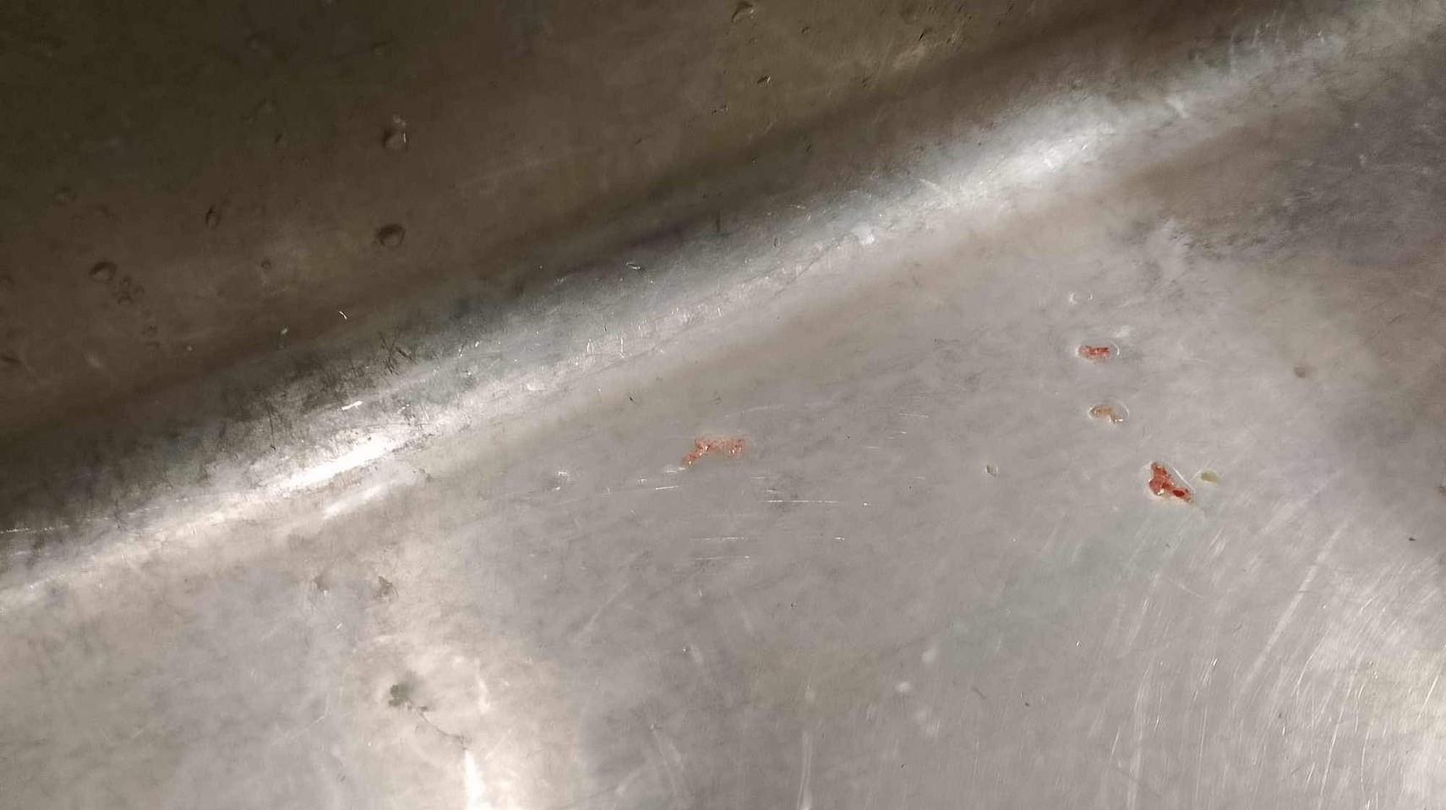General: (4, 4, 1438, 806)
Sharps: (1146, 460, 1193, 504), (682, 435, 745, 467), (1076, 342, 1117, 362)
